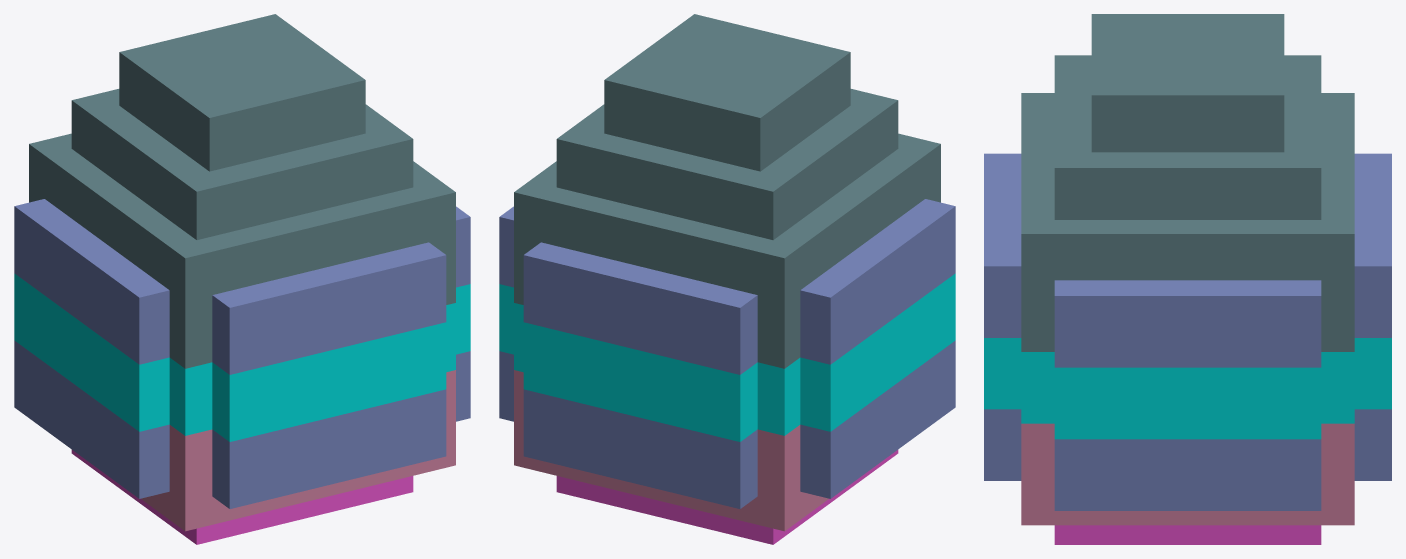
File: 49.Parrotfish.fbx
3 renders of one model, left to right at view 1: azimuth 30°, elevation 25°; view 2: azimuth 150°, elevation 25°; view 3: azimuth 270°, elevation 25°, orthographic. The views are drawn at different scales.
Visible parts, largest first — view 1: Parrotfish; view 2: Parrotfish; view 3: Parrotfish.
Part boxes in pixels (bbox=[...]): Parrotfish: bbox=[14, 14, 470, 544]; Parrotfish: bbox=[499, 14, 955, 544]; Parrotfish: bbox=[984, 14, 1391, 544].
Size of the model in its own units: 2.89 by 3.39 by 2.89.
